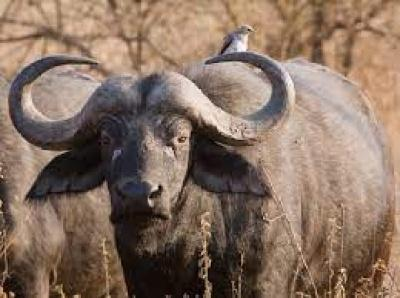buffalo: (9, 26, 394, 298)
